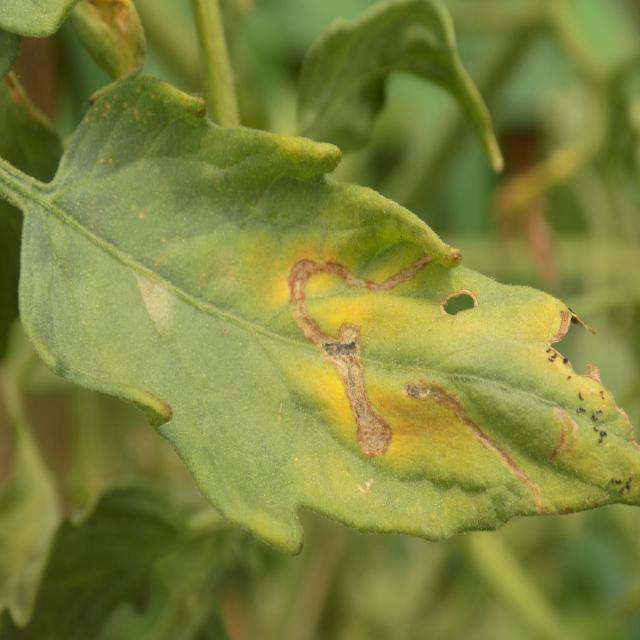tomato_early blight: (21, 67, 640, 552)
